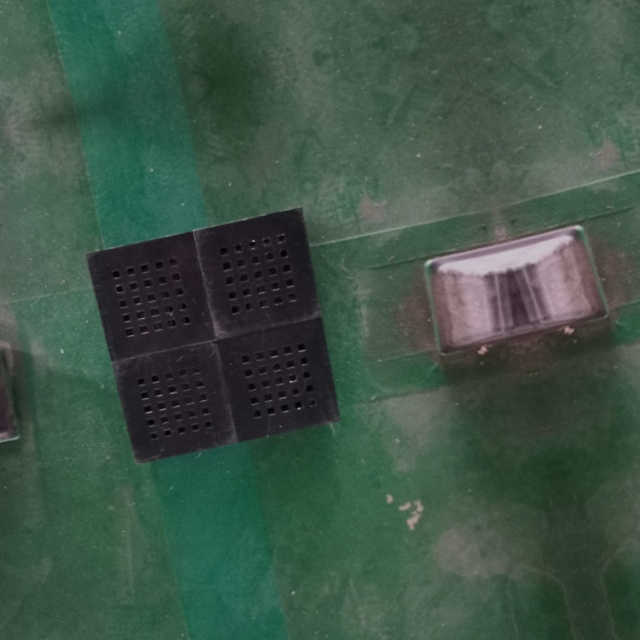pallet: (80, 203, 349, 471)
